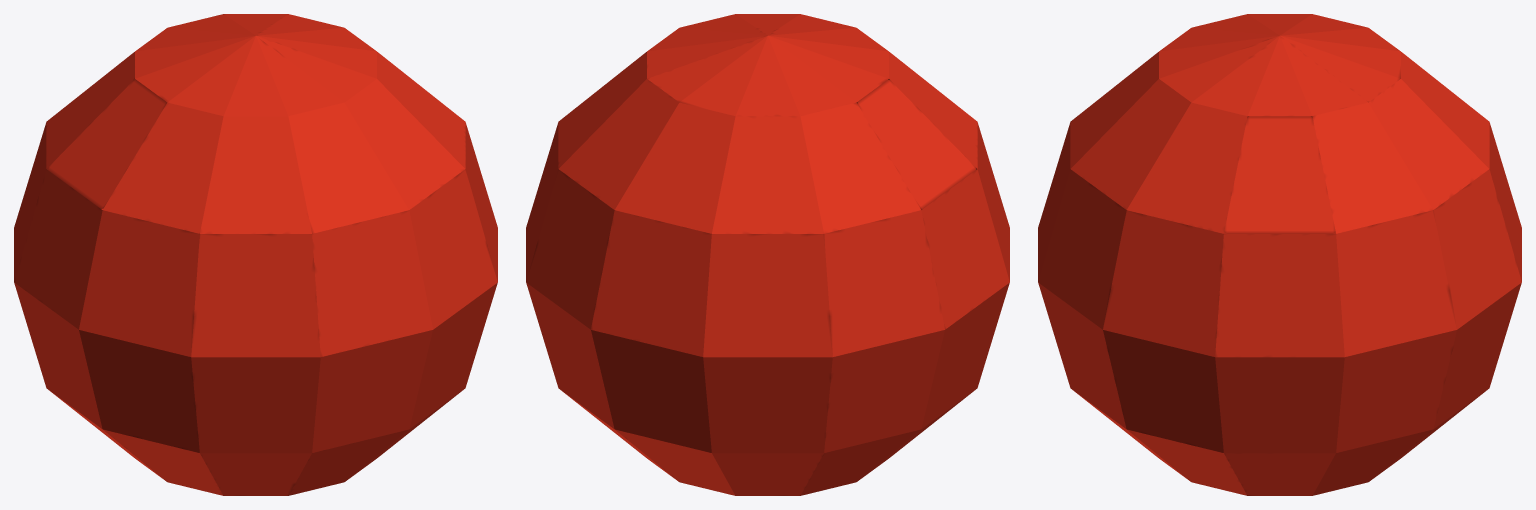
File: nyc_subway_entrance_1_globe_light_2r_light_layer.obj
3 renders of one model, left to right at view 1: azimuth 30°, elevation 25°; view 2: azimuth 150°, elevation 25°; view 3: azimuth 270°, elevation 25°, orthographic.
Parts seen in each view (by area): view 1: sphere; view 2: sphere; view 3: sphere.
Boxes of the visible parts, x1,y1,x2,y2 form: sphere: (14, 14, 497, 495); sphere: (526, 14, 1009, 495); sphere: (1038, 14, 1521, 495).
Bounding box in the file's own units: 0.5006 × 0.5006 × 0.5006.
1 material, 1 textured.
